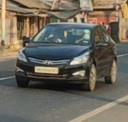Car: (14, 22, 119, 95)
